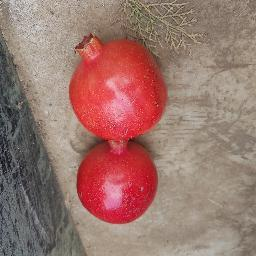Good_pomegranate: (60, 32, 170, 138), (74, 141, 161, 222)
